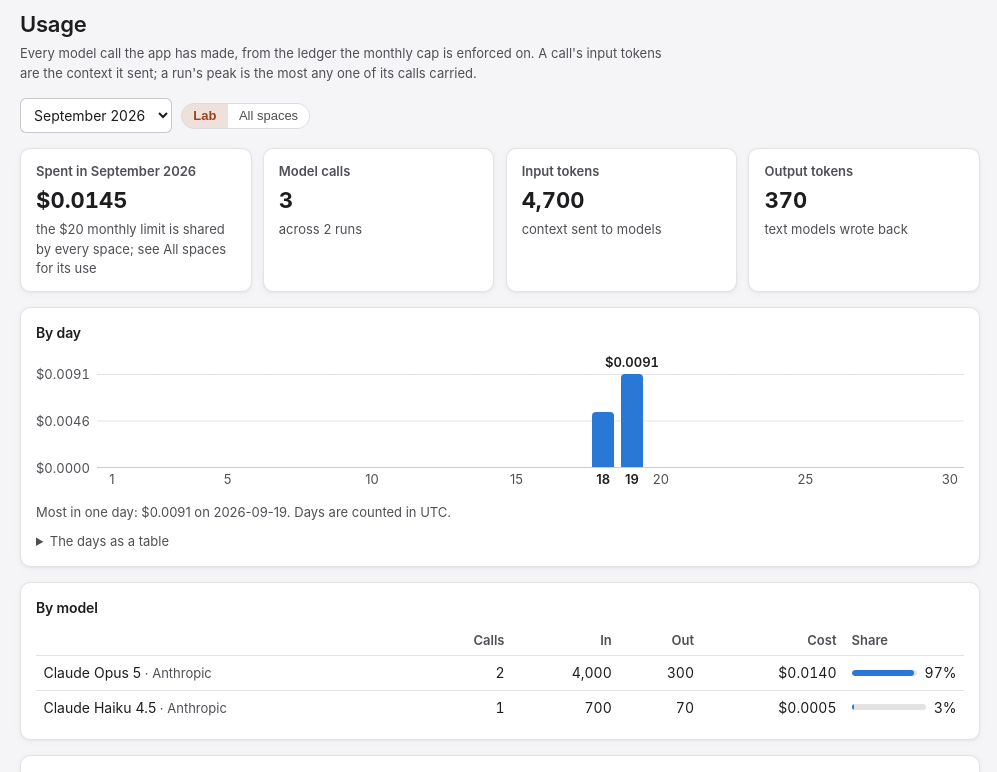
Scenario: UsageView › re-asks for another period and for every space, where the cap and the space table appear
This screenshot has width=997, height=772.
Expected: the element with test id "usage-spent" is shown, 20,148 -> 252,292
Select "August 2026" in the dropdown with test id "usage-period" at (96, 116), box 20,98 -> 172,133
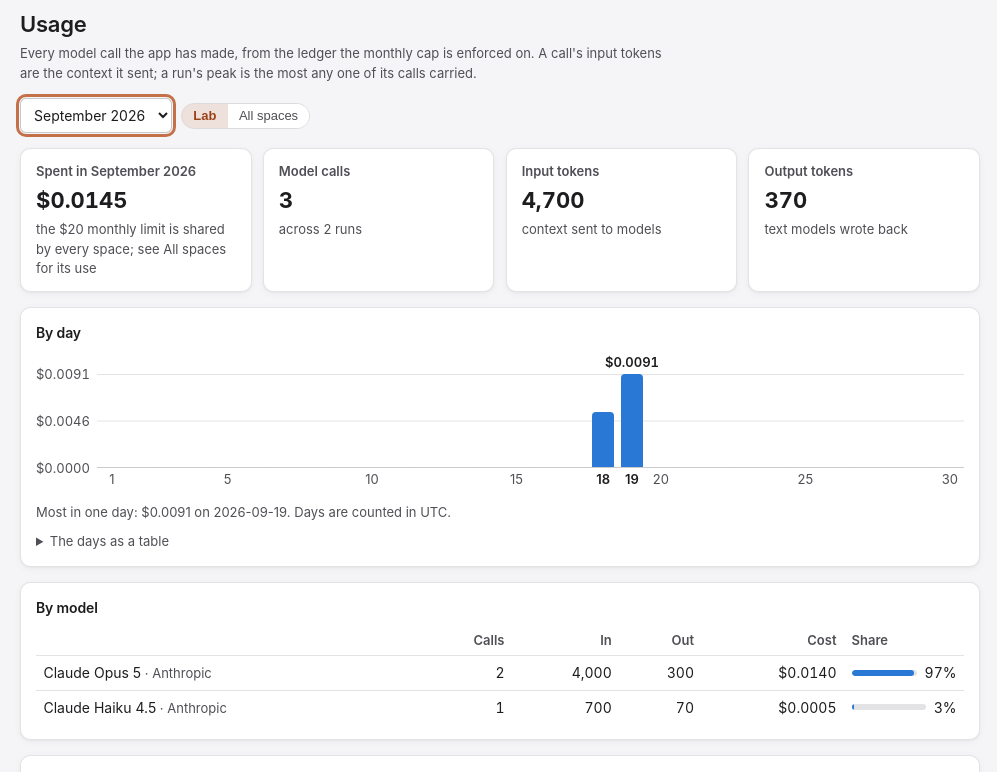
Click the button "All spaces" at (268, 116), box 228,104 -> 309,128
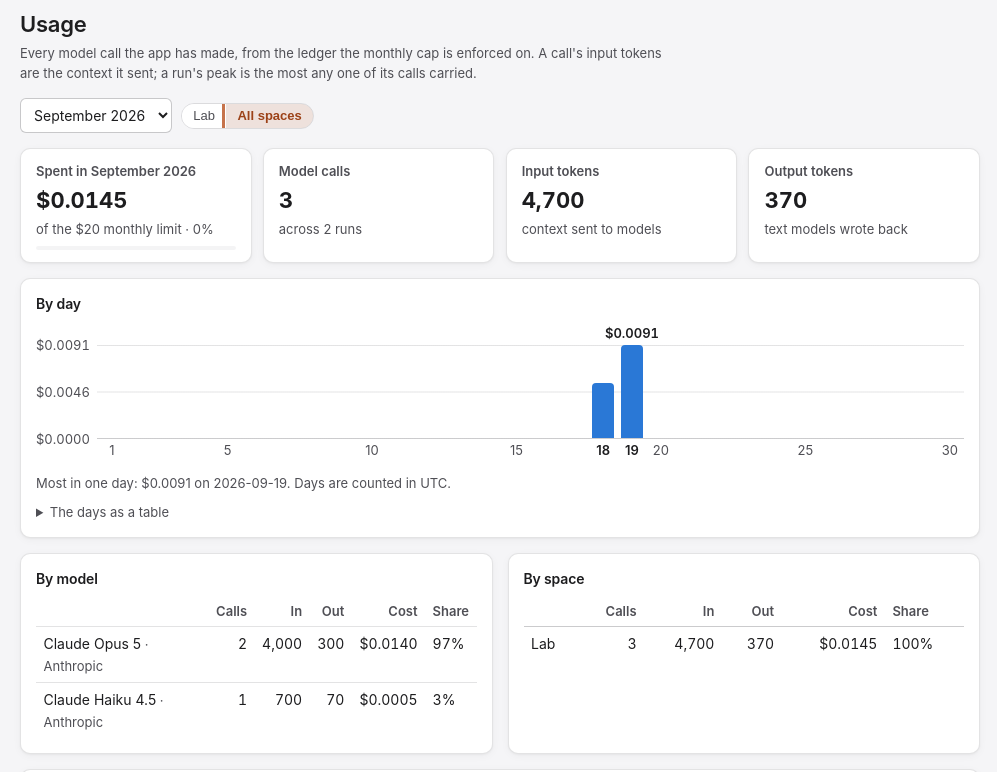
Expected: the element with test id "usage-spent" shows "of the $20 monthly limit", 20,148 -> 252,263
Expected: the table with test id "usage-spaces" shows "Lab", 531,635 -> 555,652
